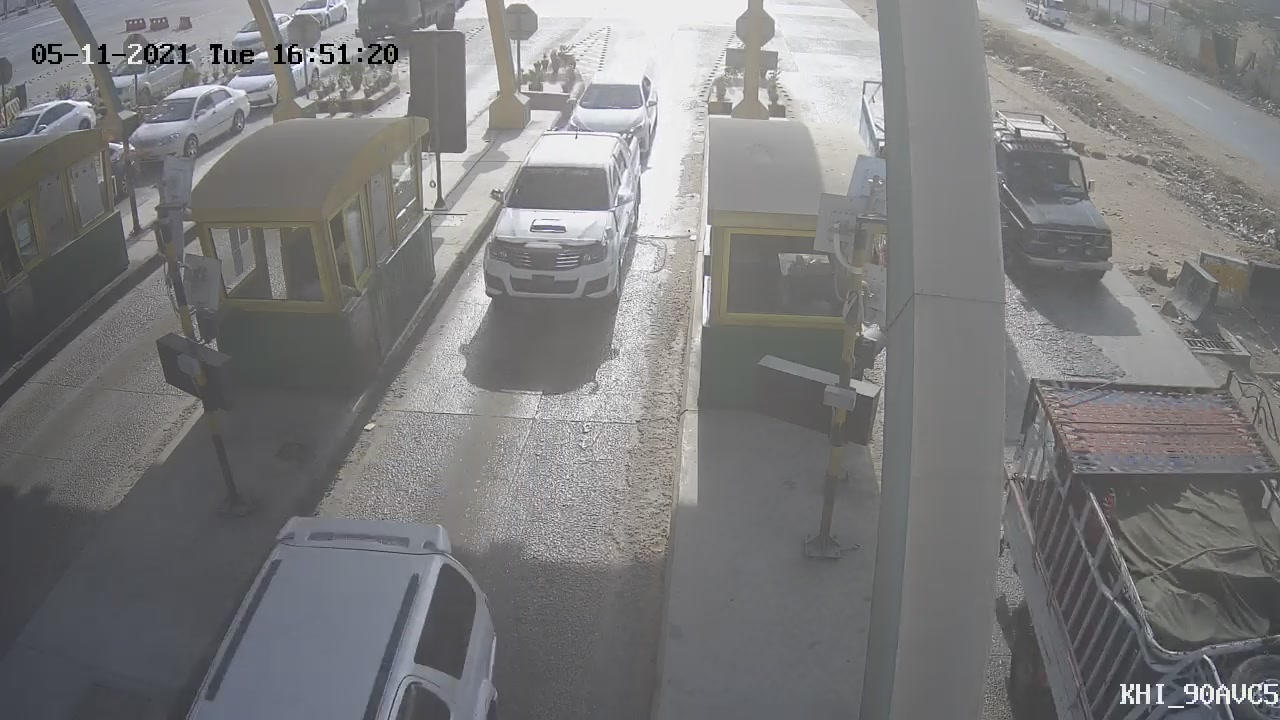F1: (457, 116, 659, 321)
